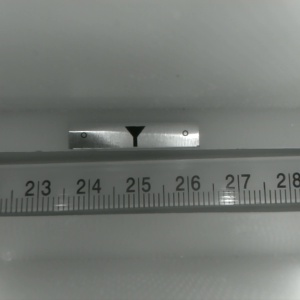2: (23, 180, 34, 196), (276, 172, 286, 188), (225, 174, 235, 189), (174, 176, 184, 191), (125, 177, 135, 192), (75, 179, 85, 194), (91, 178, 100, 194)
3: (40, 180, 50, 196)
5: (141, 176, 150, 192)
6: (190, 175, 200, 191)
7: (241, 174, 250, 189)
8: (292, 172, 300, 188)
finger: (123, 126, 145, 147)
